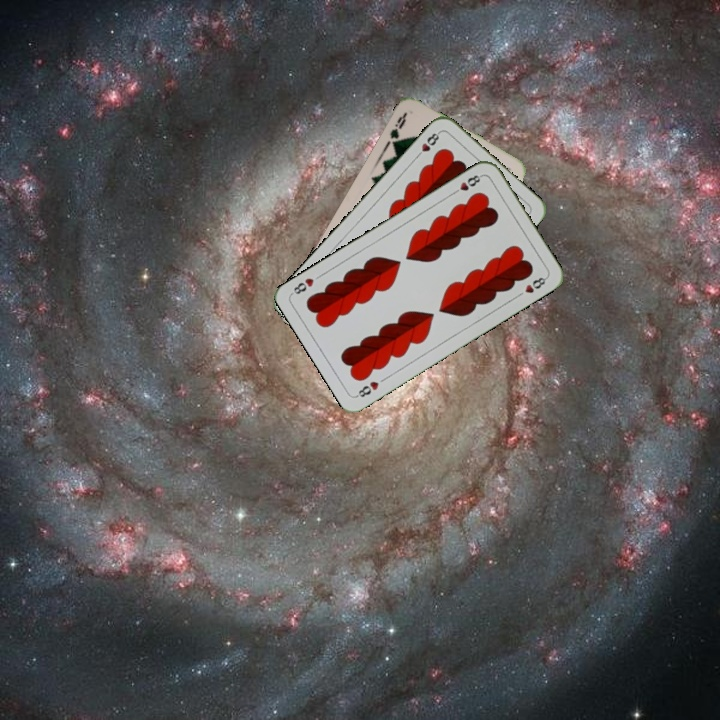G9: (386, 109, 409, 149)
H8: (412, 128, 443, 161), (448, 171, 485, 197), (353, 377, 382, 400)
